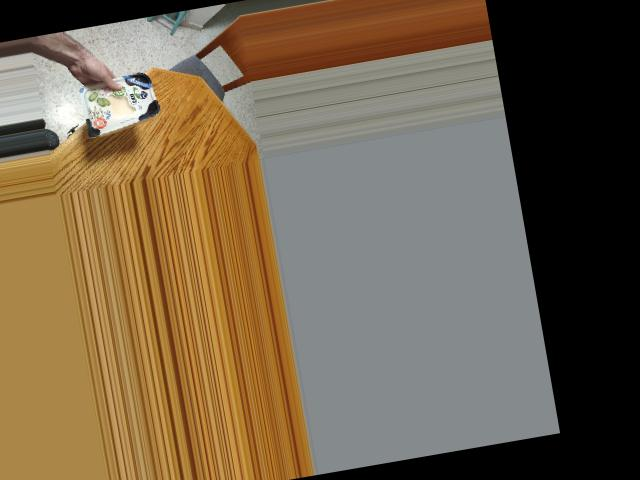cheese: (76, 62, 161, 137)
